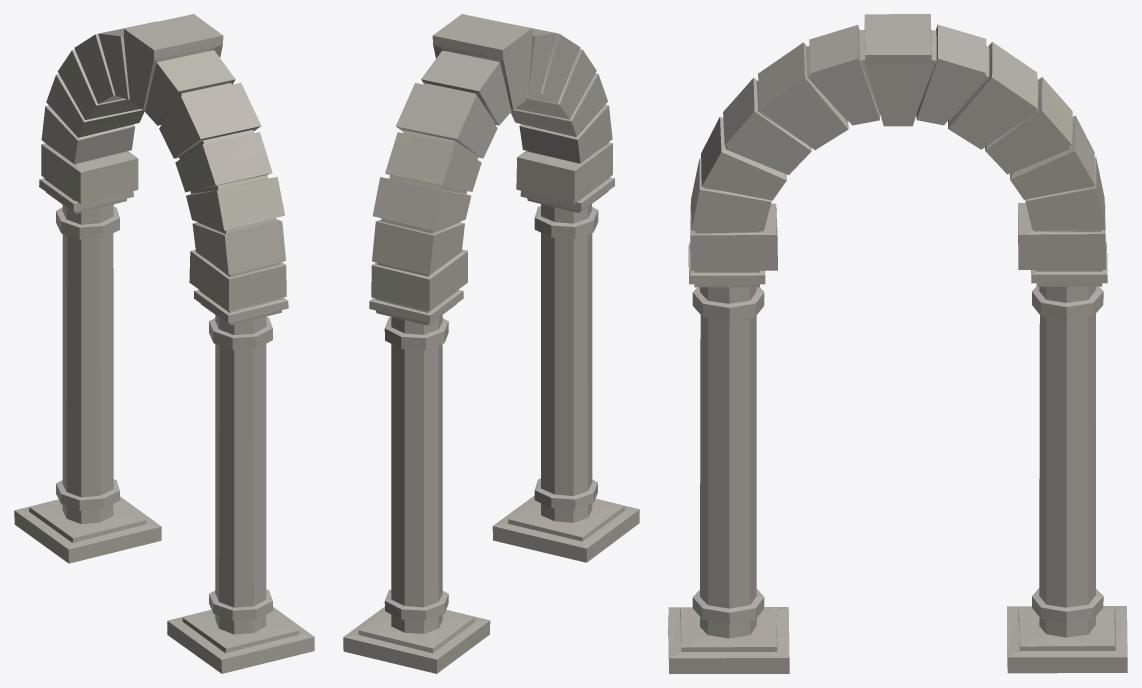
File: wedding_arch.glb
3 views of the same model, side by side, from view 1: azimuth 30°, elevation 25°; view 2: azimuth 150°, elevation 25°; view 3: azimuth 270°, elevation 25° (orthographic). The views are drawn at different scales.
Visible parts, largest first — view 1: Arch; view 2: Arch; view 3: Arch.
Boxes of the visible parts, box(x1,y1,x2,y2) form: Arch: box(14, 14, 314, 673); Arch: box(343, 14, 639, 673); Arch: box(668, 14, 1127, 673).
Size of the model in its own units: 0.4688 by 2.6 by 1.75.
1 material, 1 textured.
